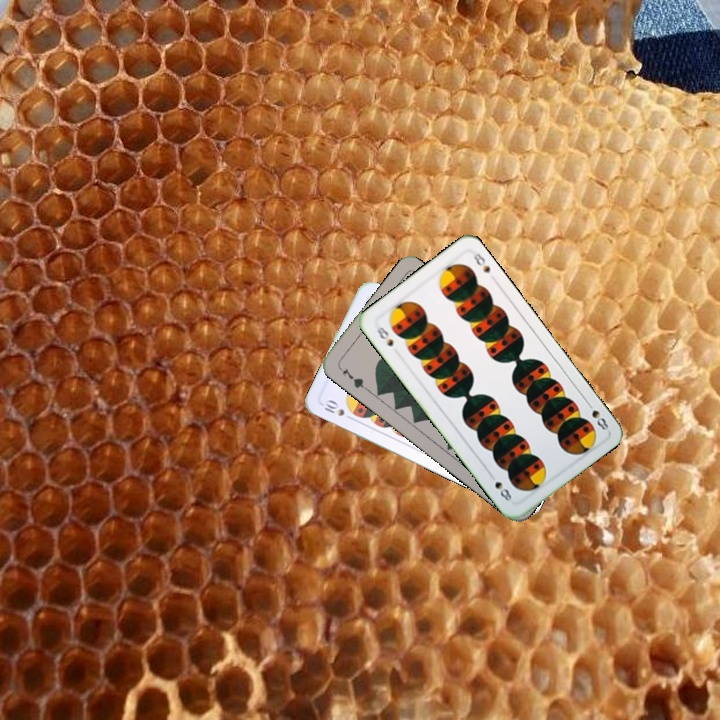G7: (338, 363, 369, 392)
S10: (318, 396, 356, 423)
S8: (582, 397, 611, 433), (372, 323, 396, 349)
